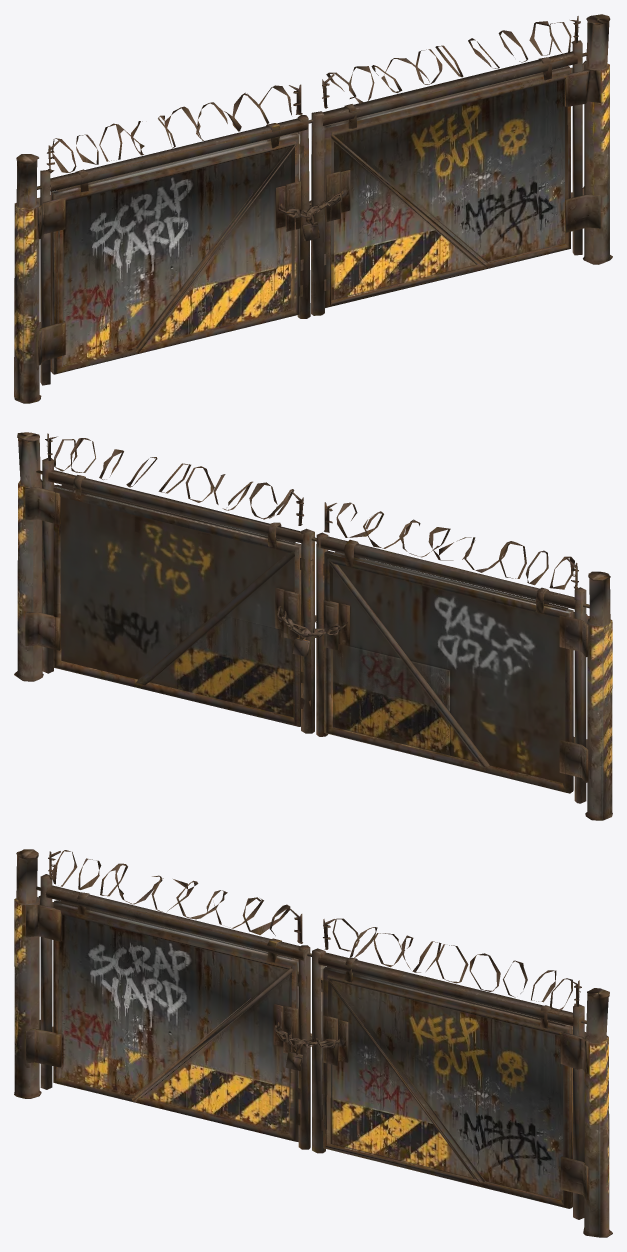
Rendered from modular_fence_gate.glb.
The picture shows the model from 3 angles, top to bottom: view 1: azimuth 30°, elevation 25°; view 2: azimuth 150°, elevation 25°; view 3: azimuth 330°, elevation 25°; orthographic projection.
Visible parts, largest first — view 1: Meshy_AI_modular_fence_gate_3d_20261028_texture; view 2: Meshy_AI_modular_fence_gate_3d_20261028_texture; view 3: Meshy_AI_modular_fence_gate_3d_20261028_texture.
Boxes of the visible parts, x1=… form: Meshy_AI_modular_fence_gate_3d_20261028_texture: x1=14, y1=14, x2=612, y2=403; Meshy_AI_modular_fence_gate_3d_20261028_texture: x1=14, y1=432, x2=612, y2=820; Meshy_AI_modular_fence_gate_3d_20261028_texture: x1=14, y1=849, x2=612, y2=1237.
Size of the model in its own units: 5.99 by 2.41 by 0.4139.
1 material, 1 textured.
